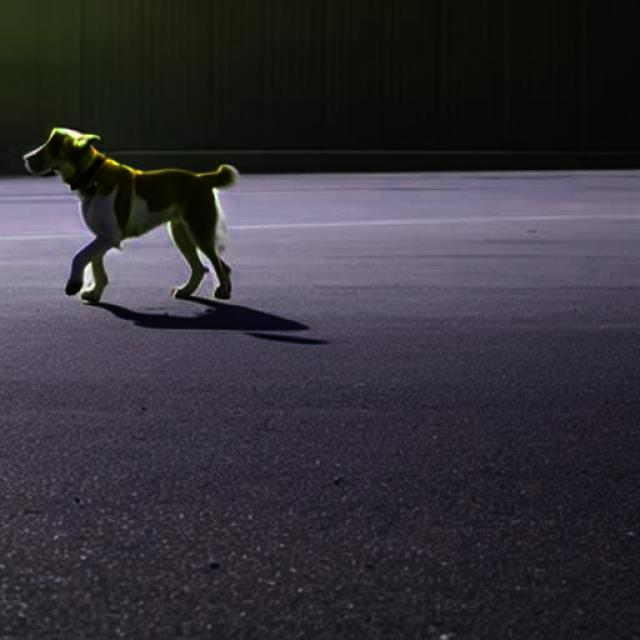Dog: (22, 126, 239, 303)
